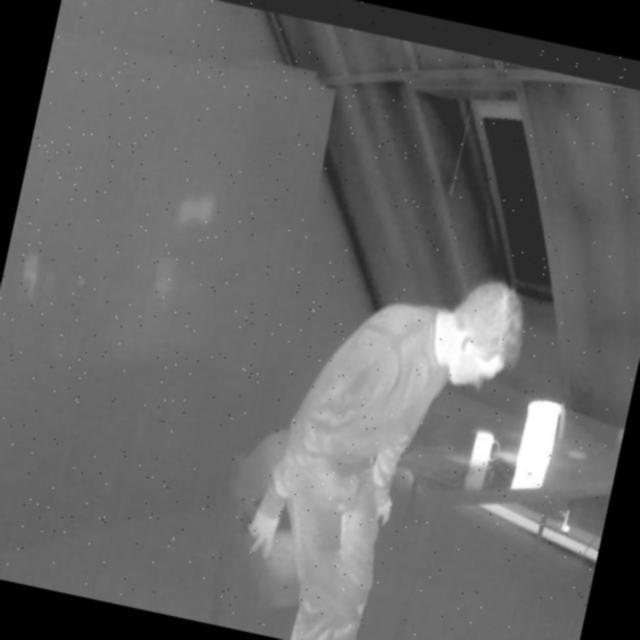person: (222, 219, 532, 640)
